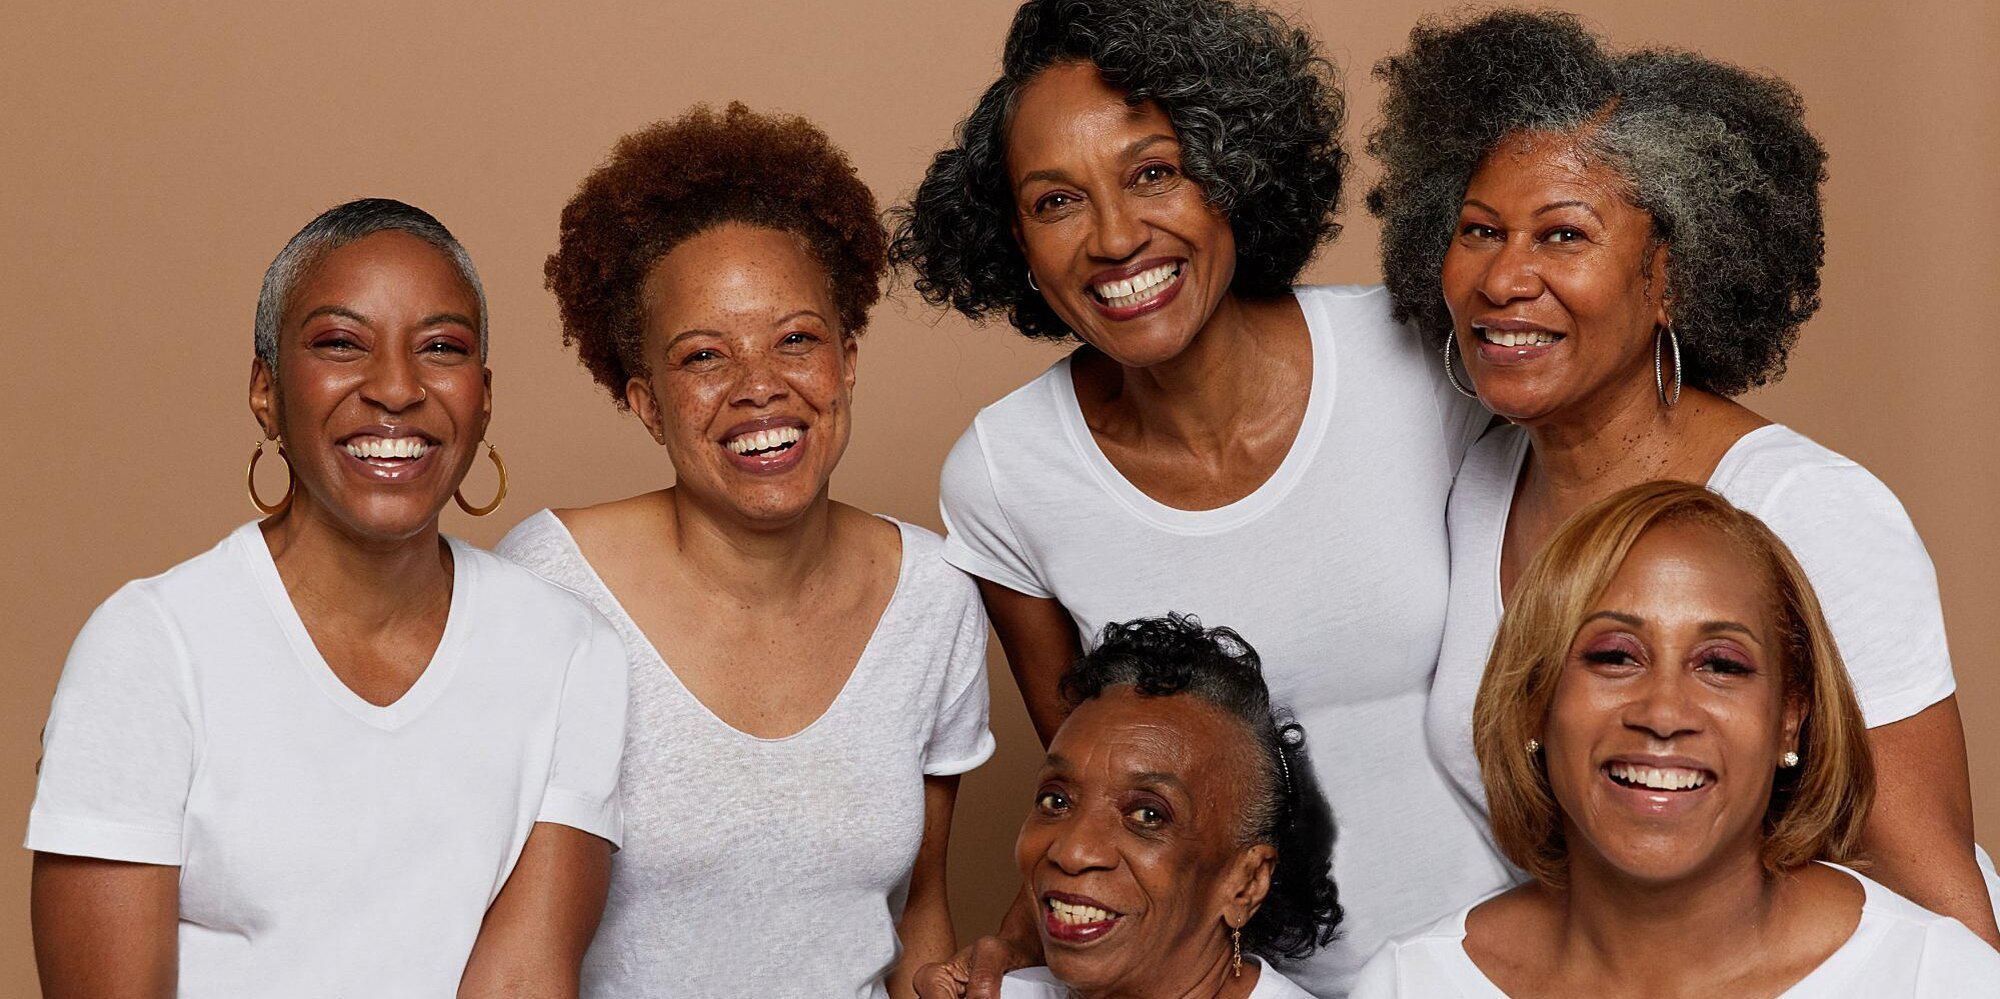Sober: (1561, 549, 1765, 860), (1001, 91, 1217, 357), (1005, 708, 1202, 967), (281, 264, 476, 519), (656, 256, 846, 515), (1445, 184, 1630, 390)
